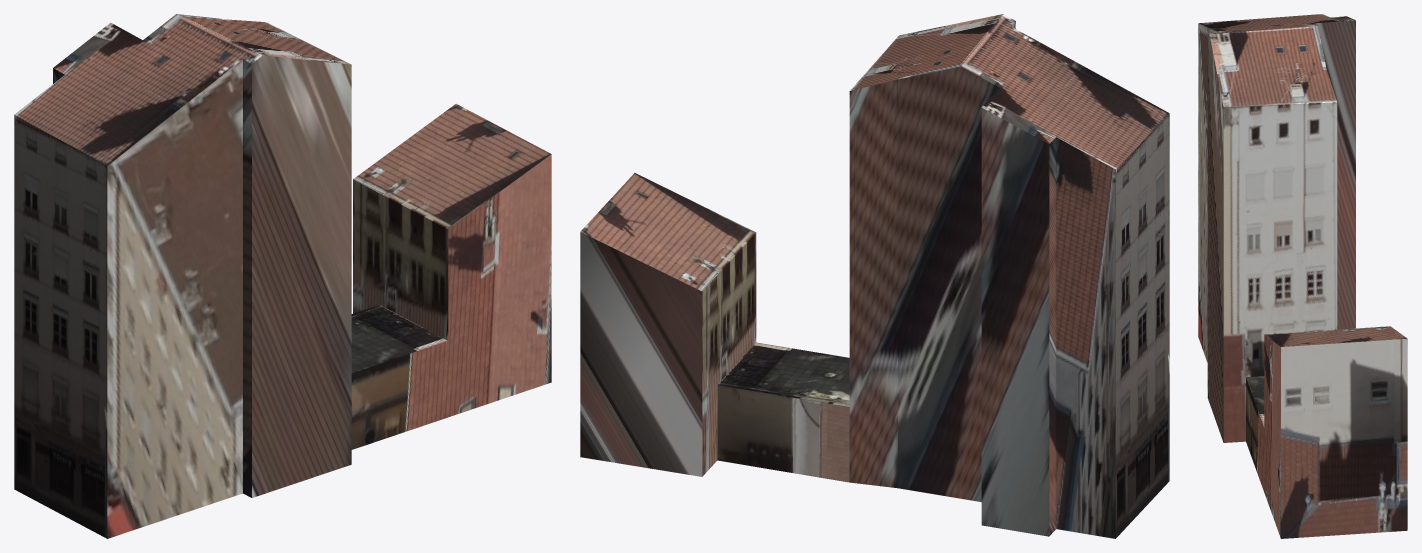
3 views of the same model, side by side, from view 1: azimuth 30°, elevation 25°; view 2: azimuth 150°, elevation 25°; view 3: azimuth 270°, elevation 25° (orthographic). The views are drawn at different scales.
Visible parts, largest first — view 1: Z_UP; view 2: Z_UP; view 3: Z_UP.
Boxes of the visible parts, x1,y1,x2,y2 form: Z_UP: (14, 14, 551, 538); Z_UP: (580, 14, 1169, 538); Z_UP: (1198, 14, 1407, 538).
Bounding box in the file's own units: 31.95 × 26.15 × 13.47.
2 materials, 1 textured.
